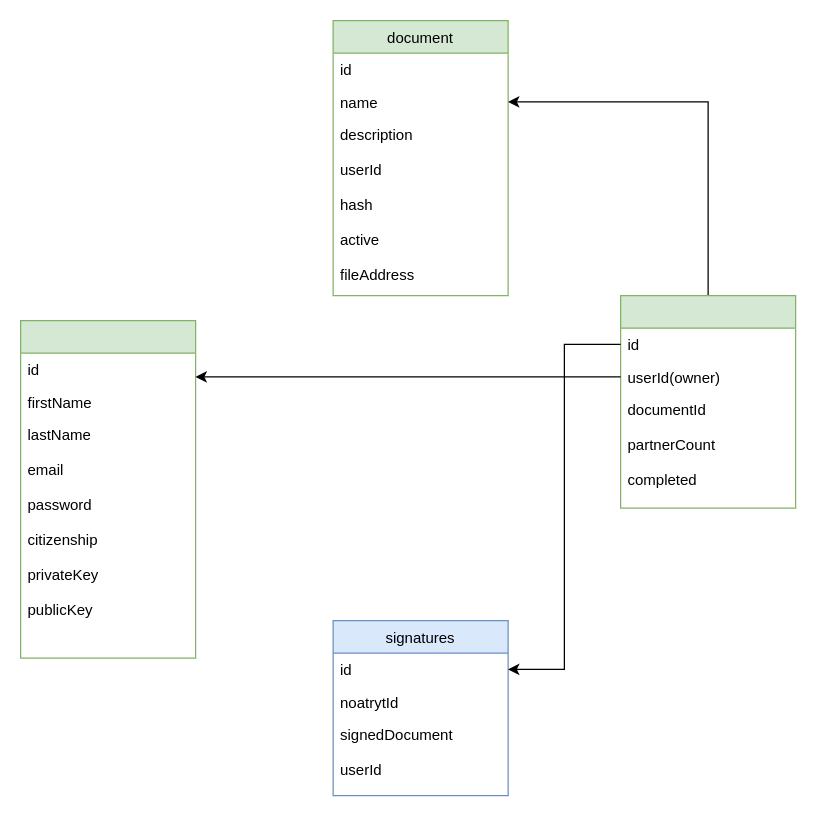
The diagram is 816 pixels wide and 816 high, and some of its shapes have lost their labels. Each missing label, with the box of its shape:
notary: (619, 294, 796, 508)
user: (19, 319, 196, 658)
